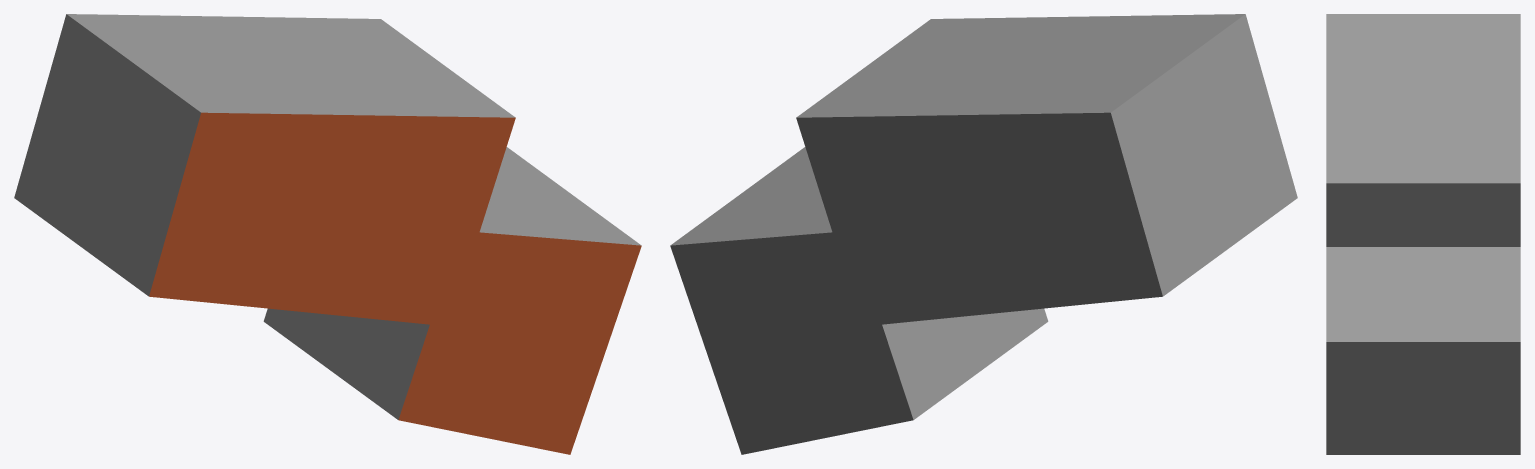
File: construction_4636_assumed_A_Casa_h6m.obj
The picture shows the model from 3 angles, left to right: view 1: azimuth 30°, elevation 25°; view 2: azimuth 150°, elevation 25°; view 3: azimuth 270°, elevation 25°; orthographic projection. The views are drawn at different scales.
Visible parts, largest first — view 1: construction_4636_assumed_A_Casa; view 2: construction_4636_assumed_A_Casa; view 3: construction_4636_assumed_A_Casa.
Part boxes in pixels (<box>): construction_4636_assumed_A_Casa: <box>14,14,641,454</box>; construction_4636_assumed_A_Casa: <box>670,14,1297,454</box>; construction_4636_assumed_A_Casa: <box>1326,14,1520,454</box>.
Size of the model in its own units: 12.66 by 10.61 by 6.
